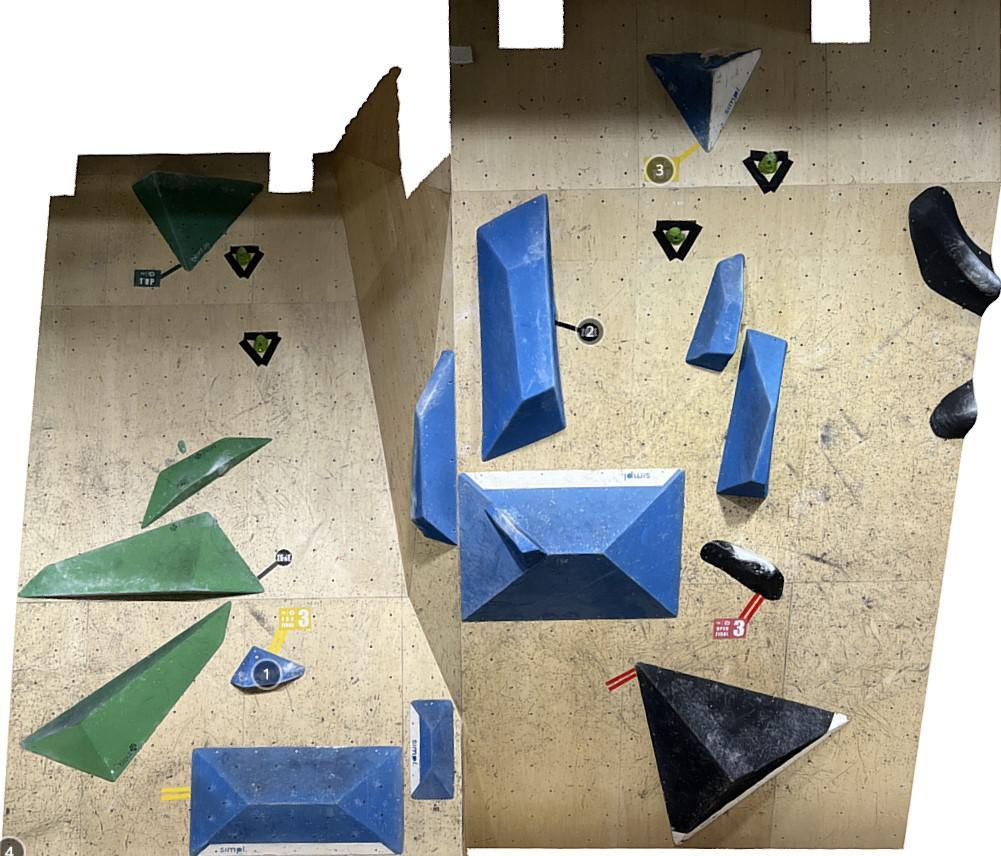hold: (635, 661, 851, 846), (19, 601, 232, 782), (458, 468, 685, 622), (476, 194, 567, 462), (190, 746, 404, 856), (18, 511, 265, 598), (132, 171, 264, 272), (646, 47, 763, 153), (716, 328, 787, 498), (909, 186, 1001, 317), (141, 438, 273, 529), (409, 349, 458, 546), (685, 254, 744, 372), (700, 540, 784, 601), (410, 699, 454, 800), (485, 504, 548, 572), (230, 645, 305, 688), (929, 378, 978, 440), (743, 150, 794, 195), (652, 220, 703, 262), (239, 331, 282, 367), (222, 245, 265, 280), (177, 440, 187, 453)
